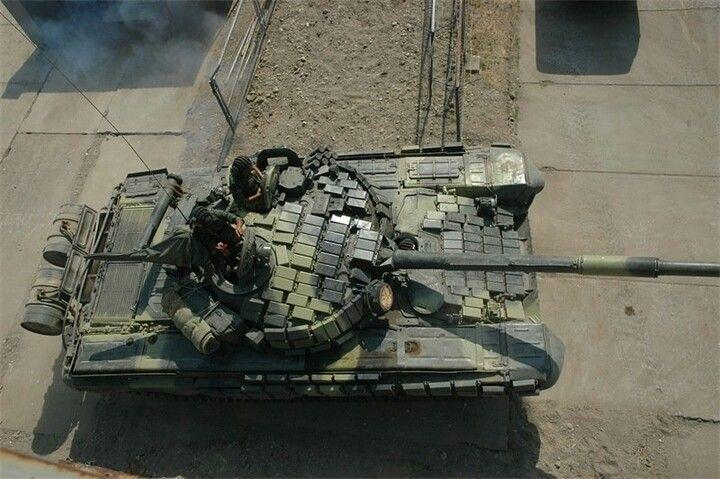tank: (27, 138, 718, 402)
